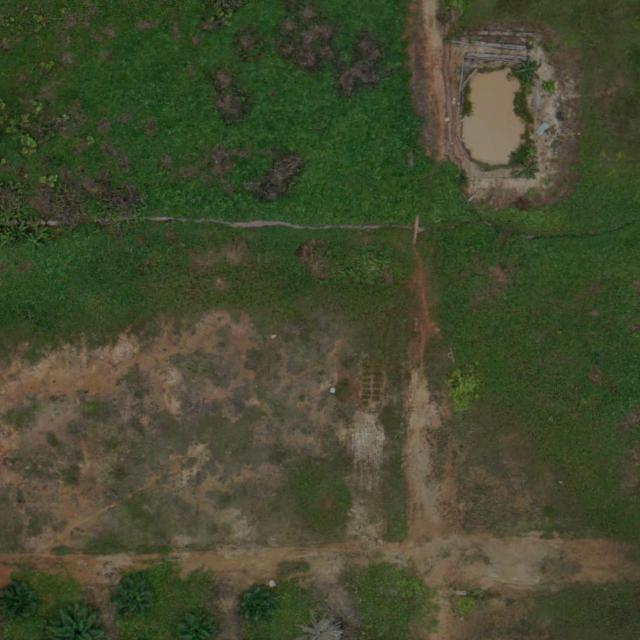Kelapa_Sawit: (47, 603, 103, 640), (116, 580, 155, 619), (1, 581, 40, 620), (170, 607, 216, 640), (236, 584, 274, 622)
